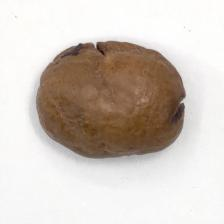NG: (48, 38, 141, 65), (171, 84, 186, 125)
